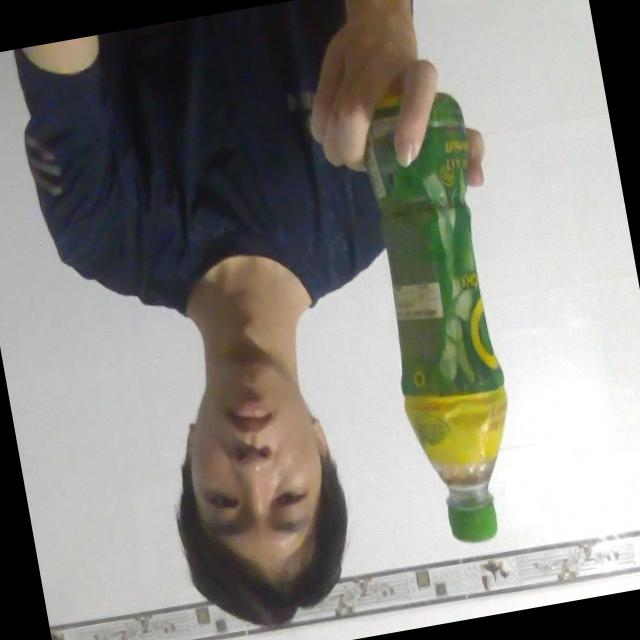tra xanh khong do: (330, 80, 564, 562)
